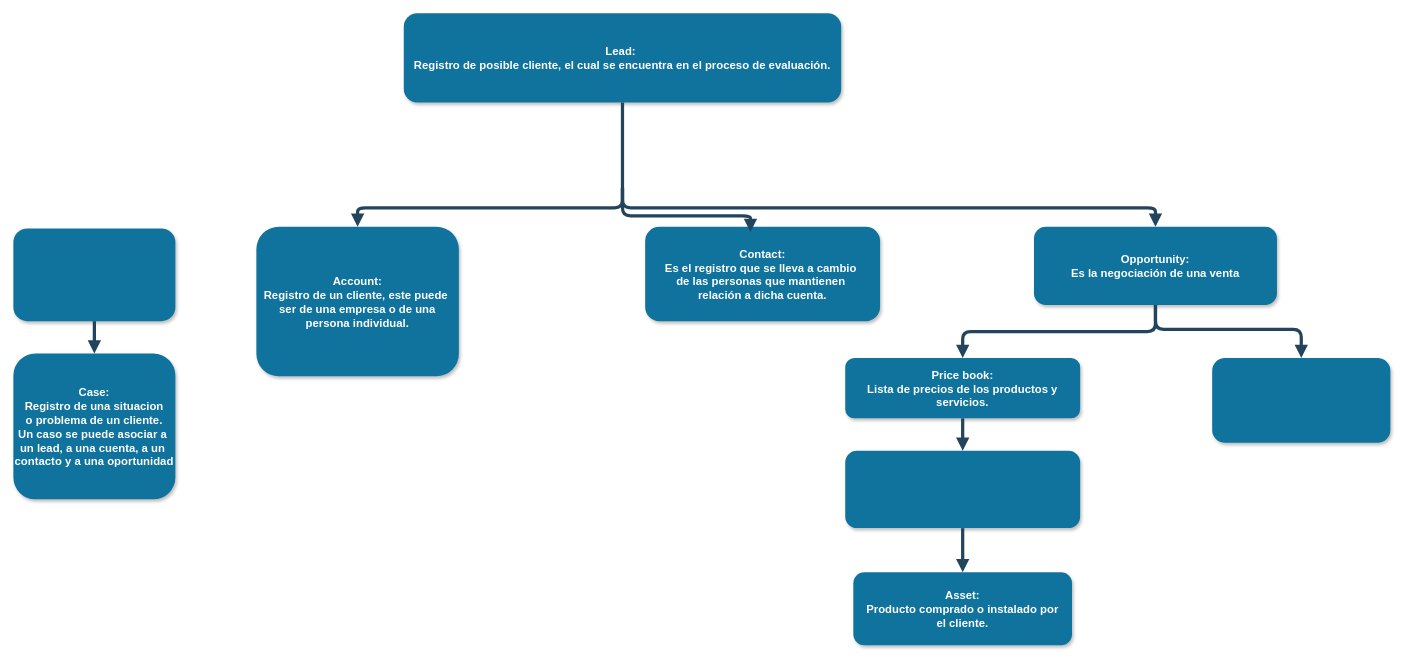
The diagram is 1404 pixels wide and 659 high, and some of its shapes have lost their labels. Each missing label, with the centre of its shape:
"Article: Documentos de informacion procesos." goes at (x=95, y=275).
"Product: Catalogo de productos o servicios que ofrece la empresa." goes at (x=963, y=490).
"Quote: Es la cotizacion que se envia a los clientes." goes at (x=1302, y=401).
